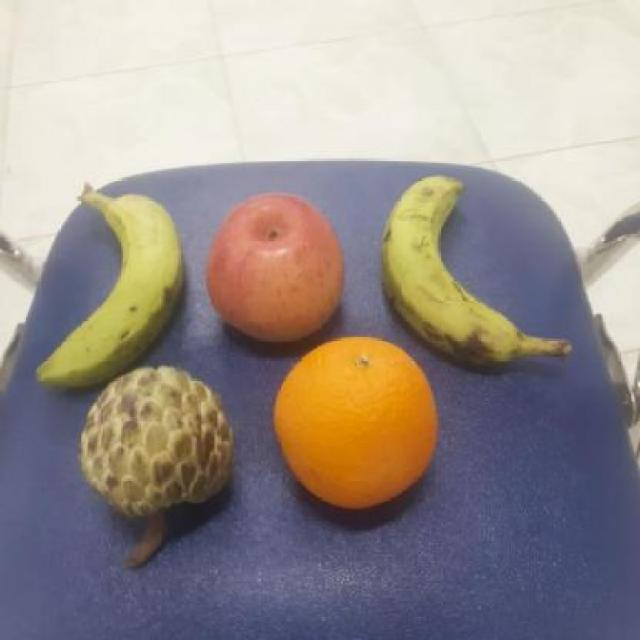apple: (202, 190, 349, 342)
banana: (32, 188, 188, 390), (377, 170, 535, 364)
oren: (268, 336, 442, 513)
sugar apple: (76, 358, 236, 518)
